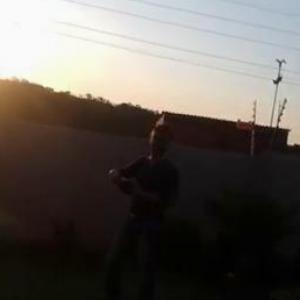follow: (100, 114, 186, 299)
